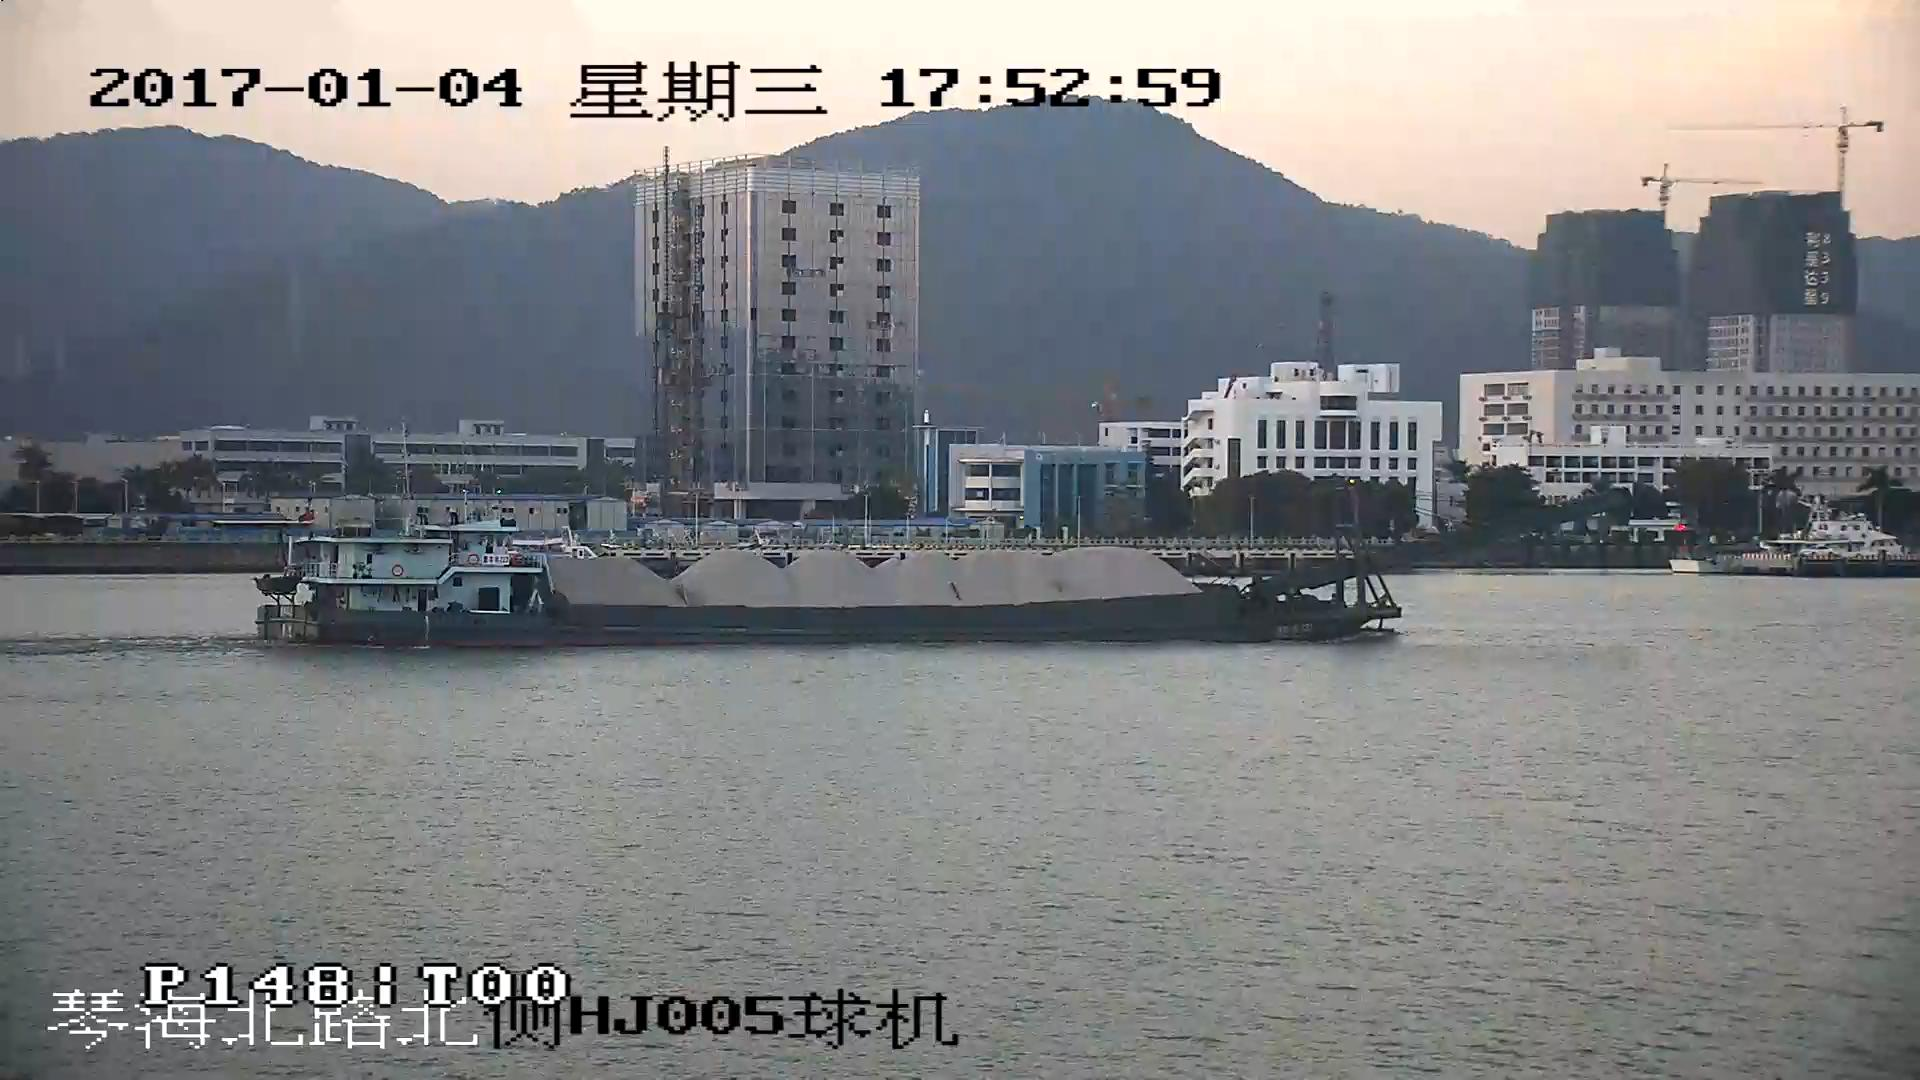ore carrier: (258, 485, 1636, 653)
